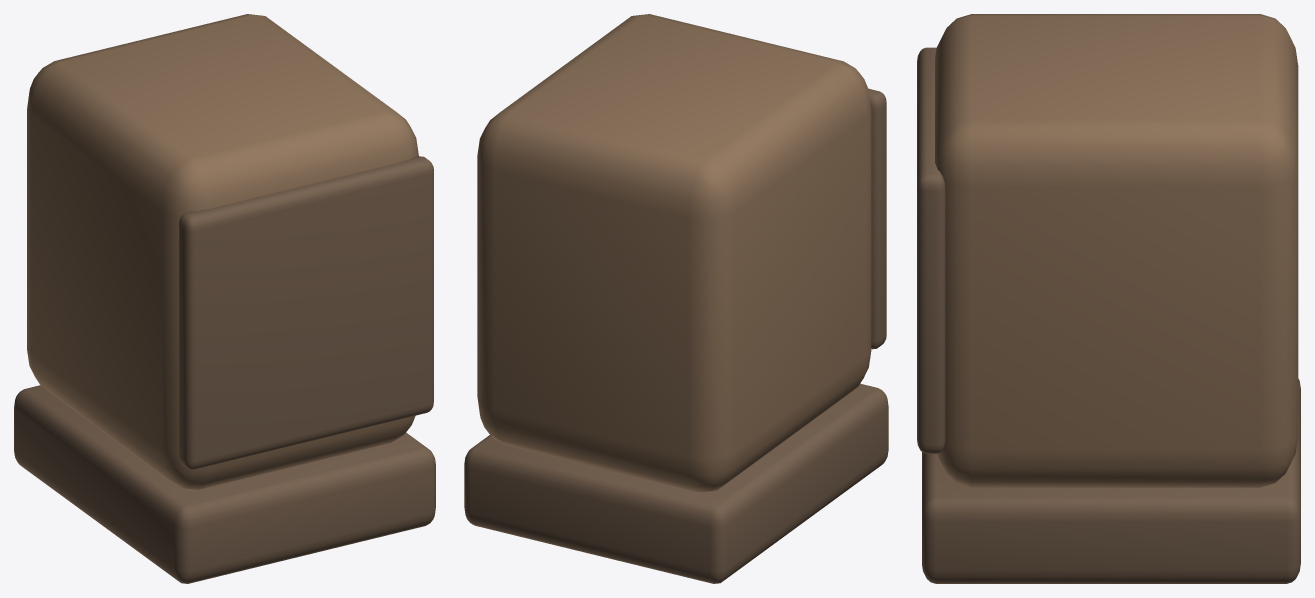
The model's file is recliner_seat.glb.
The picture shows the model from 3 angles, left to right: view 1: azimuth 30°, elevation 25°; view 2: azimuth 150°, elevation 25°; view 3: azimuth 270°, elevation 25°; orthographic projection. The views are drawn at different scales.
Parts seen in each view (by area): view 1: Cube.004, Cube.005, Cube.003; view 2: Cube.004, Cube.003, Cube.005; view 3: Cube.004, Cube.003, Cube.005.
Boxes of the visible parts, x1,y1,x2,y2 form: Cube.004: (27, 14, 418, 489); Cube.005: (179, 156, 433, 469); Cube.003: (14, 385, 435, 583); Cube.004: (477, 14, 871, 492); Cube.003: (464, 383, 888, 583); Cube.005: (868, 88, 886, 349); Cube.004: (935, 14, 1298, 487); Cube.003: (922, 378, 1300, 583); Cube.005: (917, 47, 945, 453).
Bounding box in the file's own units: 14 × 21 × 16.2.
